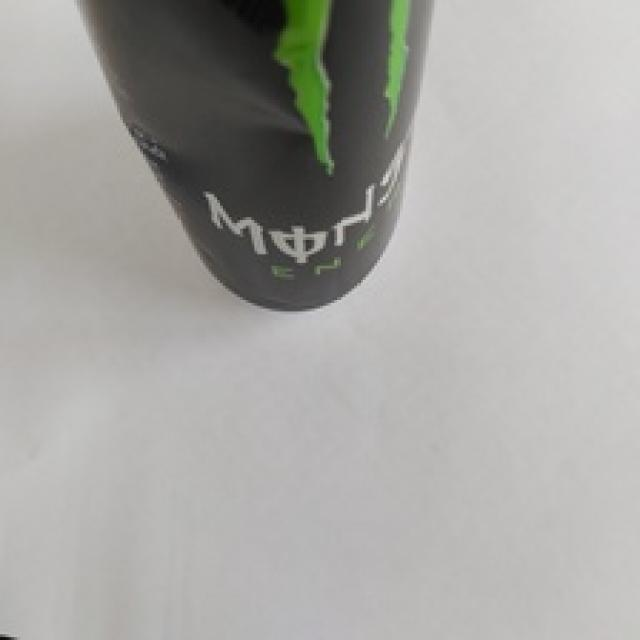recyclable: (74, 0, 438, 314)
